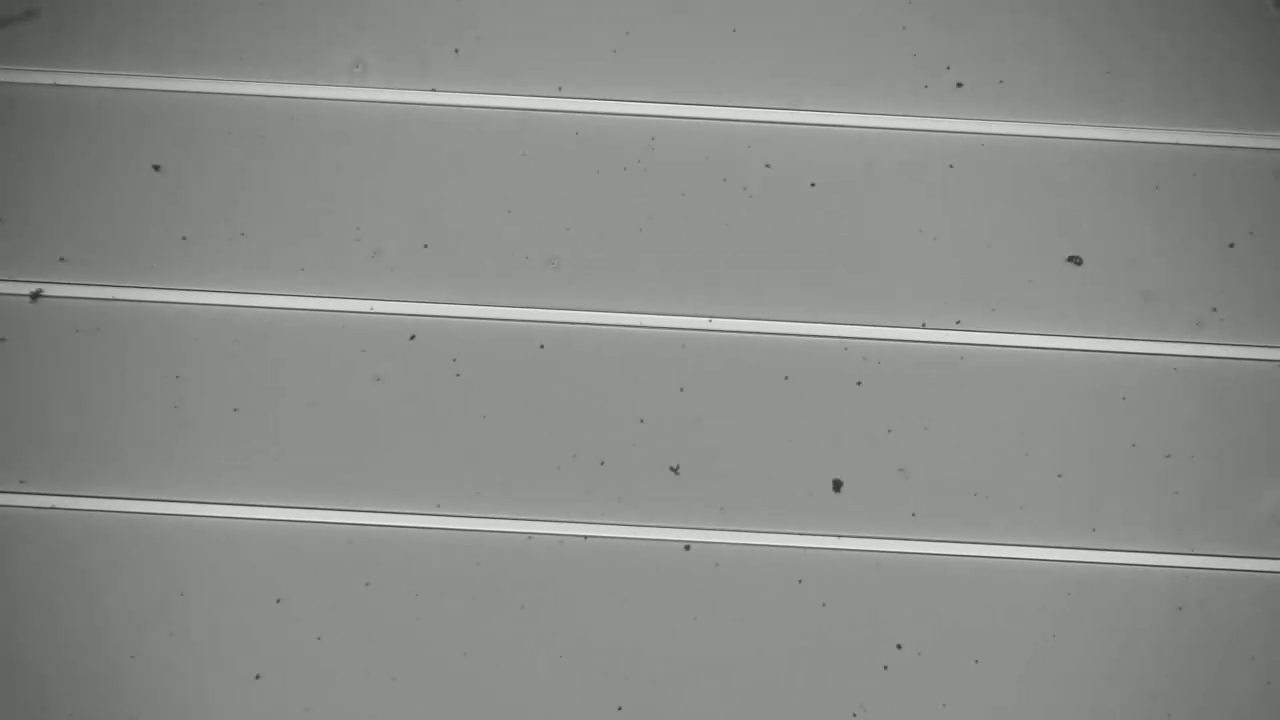stains_enbedded: (23, 275, 56, 310)
